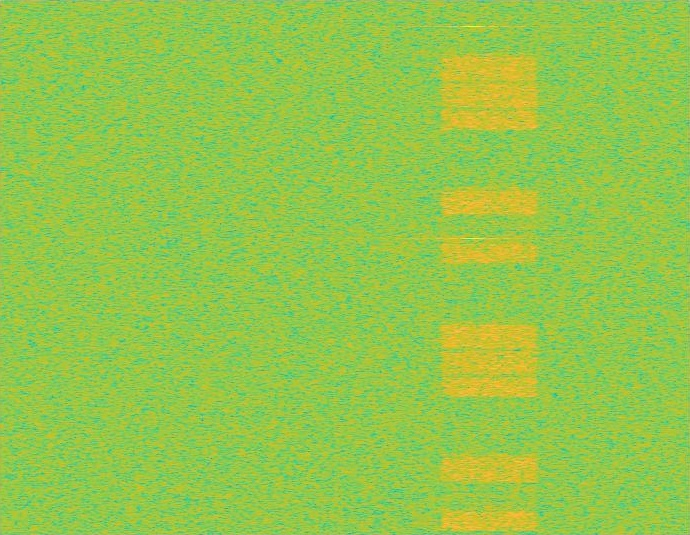LTE: (438, 0, 541, 534)
Radar: (466, 0, 480, 534)
